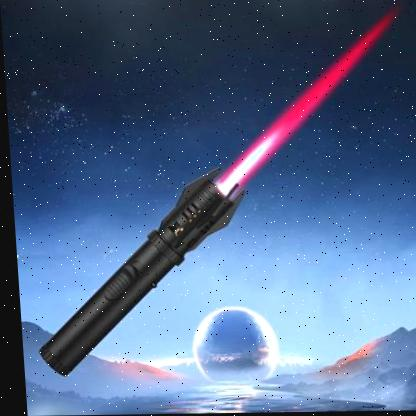lightsaber: (22, 159, 268, 383)
